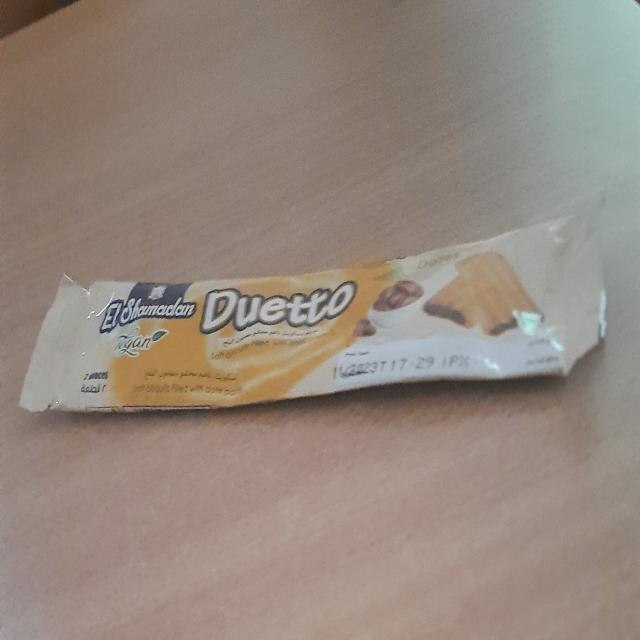trash: (13, 204, 628, 447)
